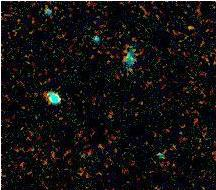star: (177, 8, 207, 38)
